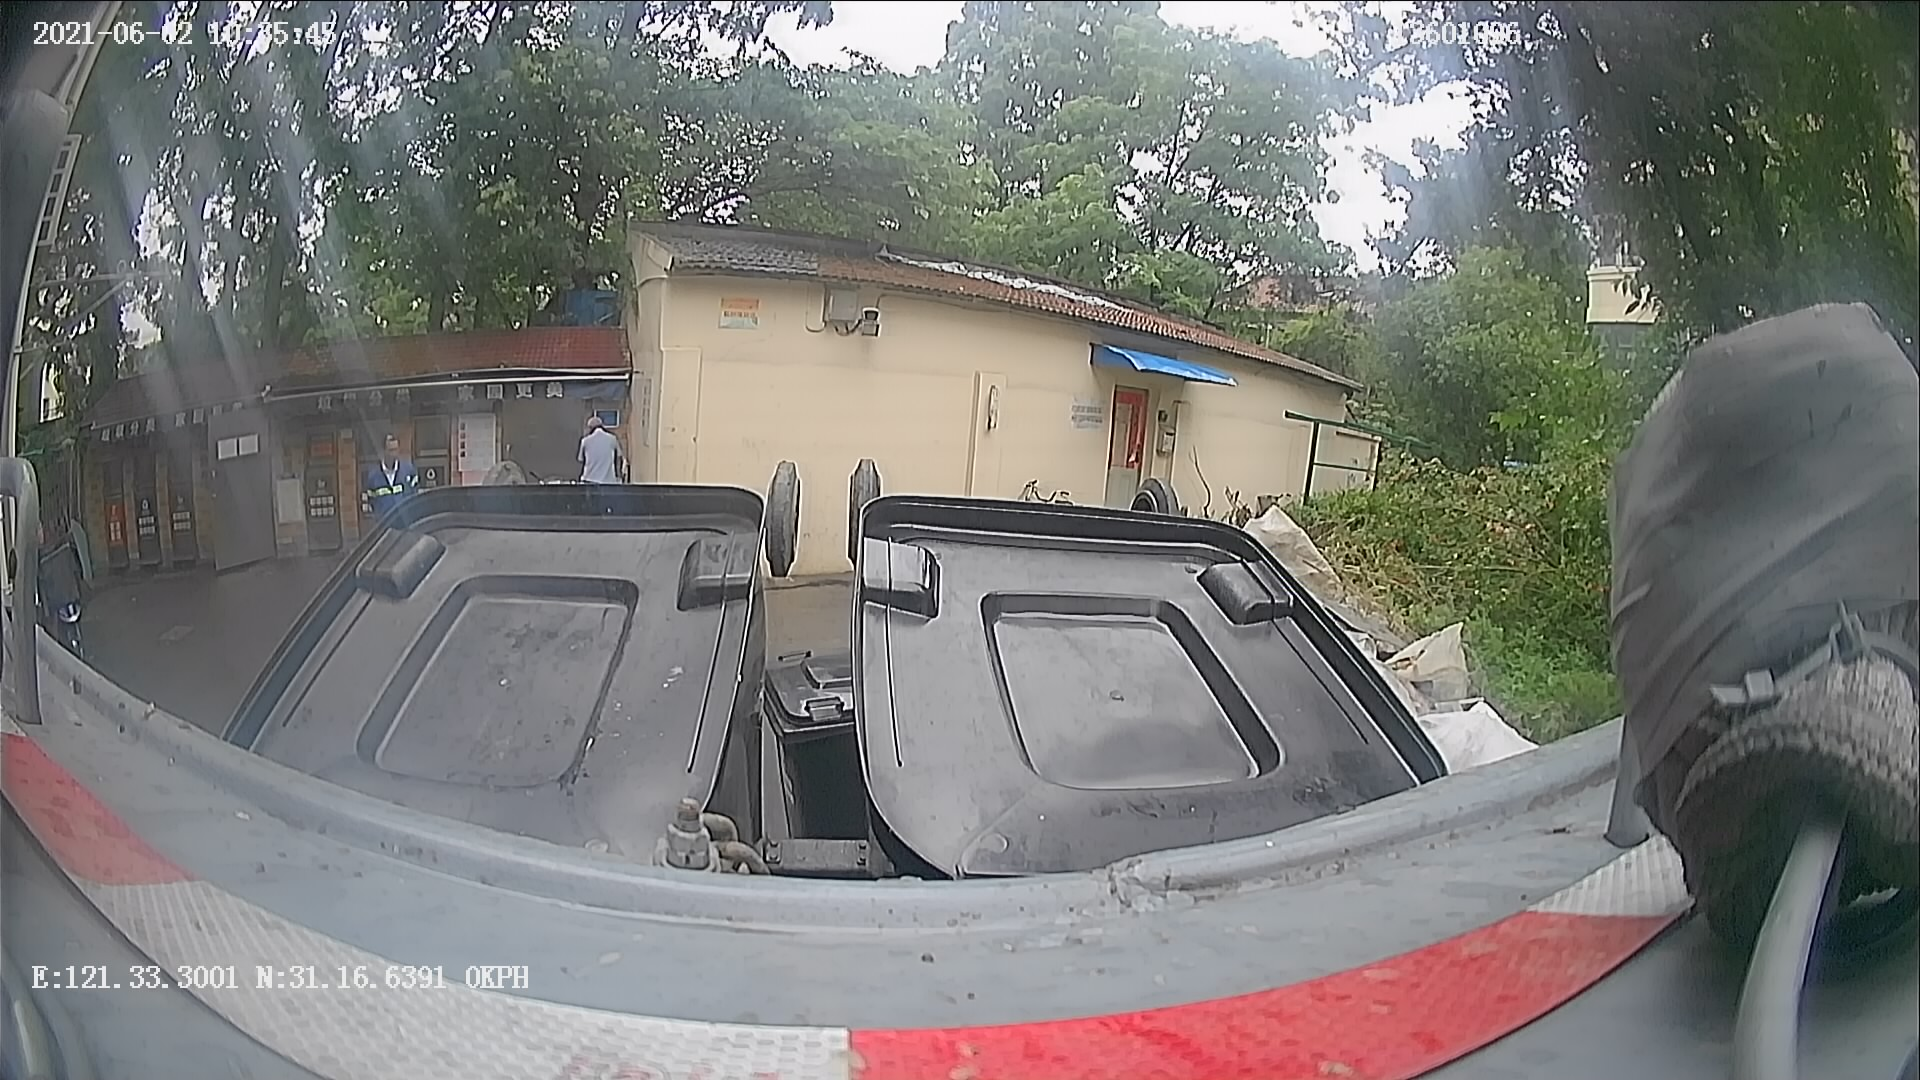Dry_garbage: (222, 427, 727, 1015), (814, 439, 1307, 1038)
